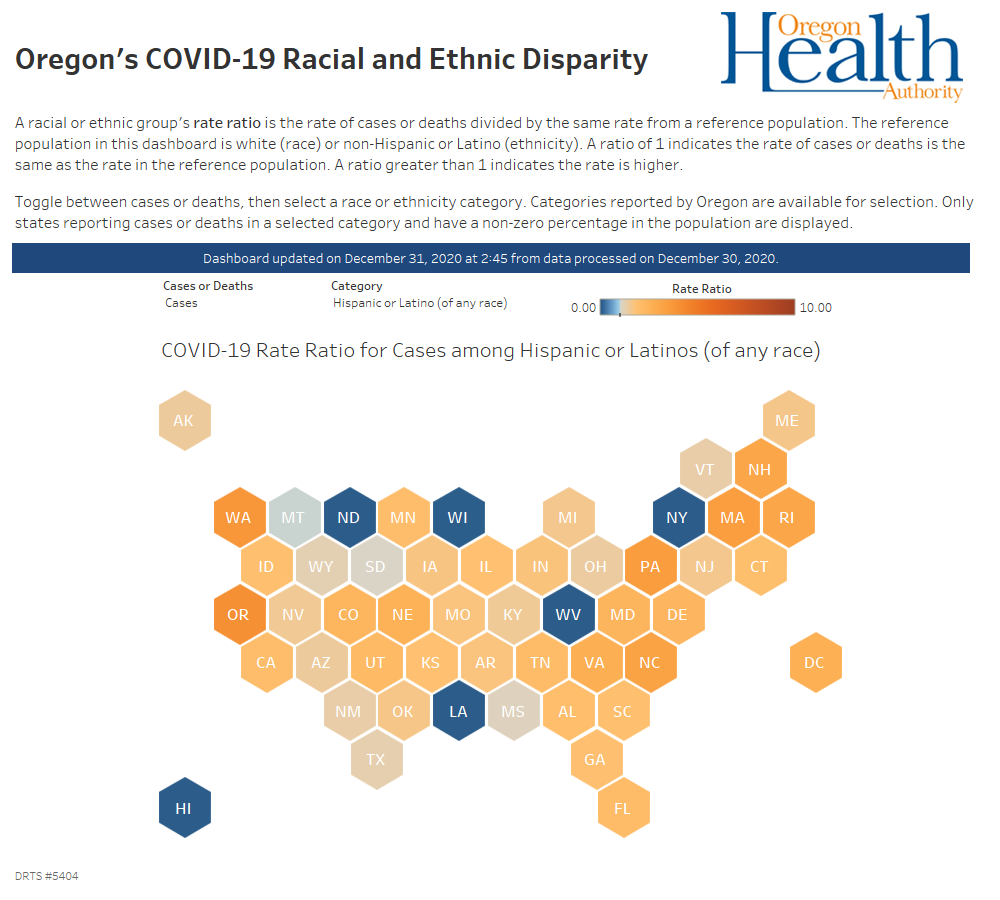

What the dashboard file says about the page in this screenshot:
{"tool":"tableau","page":{"name":"Disparity Map","canvas":[1000,900],"ordinal":1},"visuals":[{"type":"text","box":[8,8,684,99]},{"type":"image","param":"I:/Health Analytics/Staff_folders/B_Chan/Covid19 Racial Disparities/oha_logo_sm.","box":[692,8,300,99]},{"type":"text","box":[8,107,984,132]},{"type":"worksheet","title":"Datestamp","mark":"Automatic","box":[8,239,984,33]},{"type":"blank","box":[8,272,146.3,53]},{"type":"filter","title":"Datestamp","param":"[federated.16zkl9x1mqdqne149cqfx0d59wsf].[none:metric:nk]","box":[154.3,272,168,53]},{"type":"filter","title":"Map","param":"[federated.16zkl9x1mqdqne149cqfx0d59wsf].[none:category:nk]","box":[322.3,272,249,53]},{"type":"legend","title":"Map","param":"[federated.16zkl9x1mqdqne149cqfx0d59wsf].[attr:disparity_factor:qk]","box":[571.3,272,274.3,53]},{"type":"blank","box":[845.7,272,146.3,53]},{"type":"worksheet","title":"Title for Rankings","mark":"Automatic","box":[8,325,984,43]},{"type":"worksheet","title":"Map","mark":"Automatic","rows":["Row"],"cols":["Column"],"box":[8,368,984,492]},{"type":"text","box":[8,860,984,32]}]}

Visuals, with their boxes in screenshot pixels (x1, y1, x2, y2), scaled from the page's 1000x900 canvas onto the 1000x900 screenshot:
text: Rect(8, 8, 692, 107)
image: Rect(692, 8, 992, 107)
text: Rect(8, 107, 992, 239)
"Datestamp" worksheet: Rect(8, 239, 992, 272)
blank: Rect(8, 272, 154, 325)
"Datestamp" filter: Rect(154, 272, 322, 325)
"Map" filter: Rect(322, 272, 571, 325)
"Map" legend: Rect(571, 272, 846, 325)
blank: Rect(846, 272, 992, 325)
"Title for Rankings" worksheet: Rect(8, 325, 992, 368)
"Map" worksheet: Rect(8, 368, 992, 860)
text: Rect(8, 860, 992, 892)
